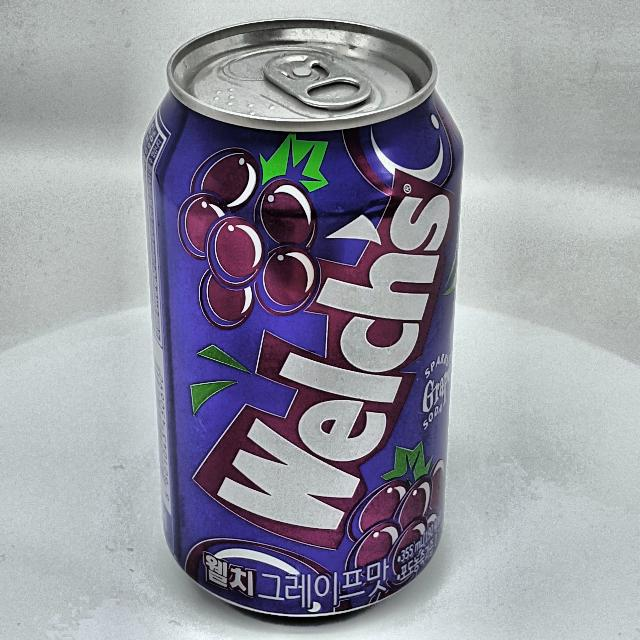welchs: (144, 19, 462, 616)
